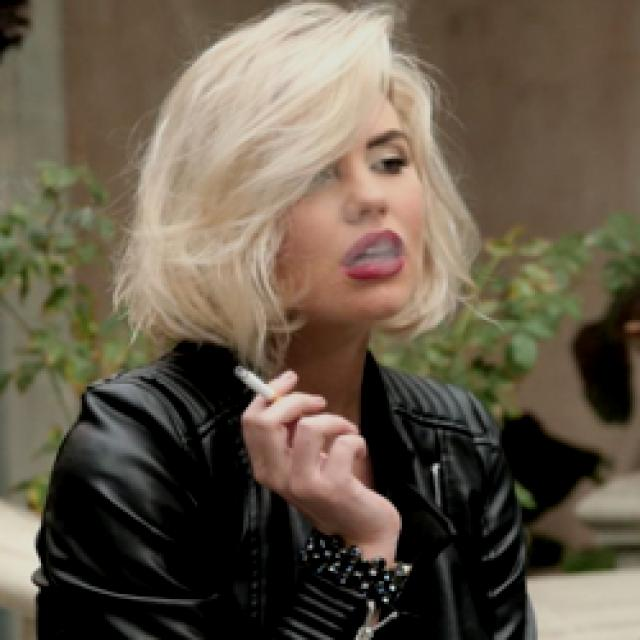Smooking: (225, 357, 284, 403)
